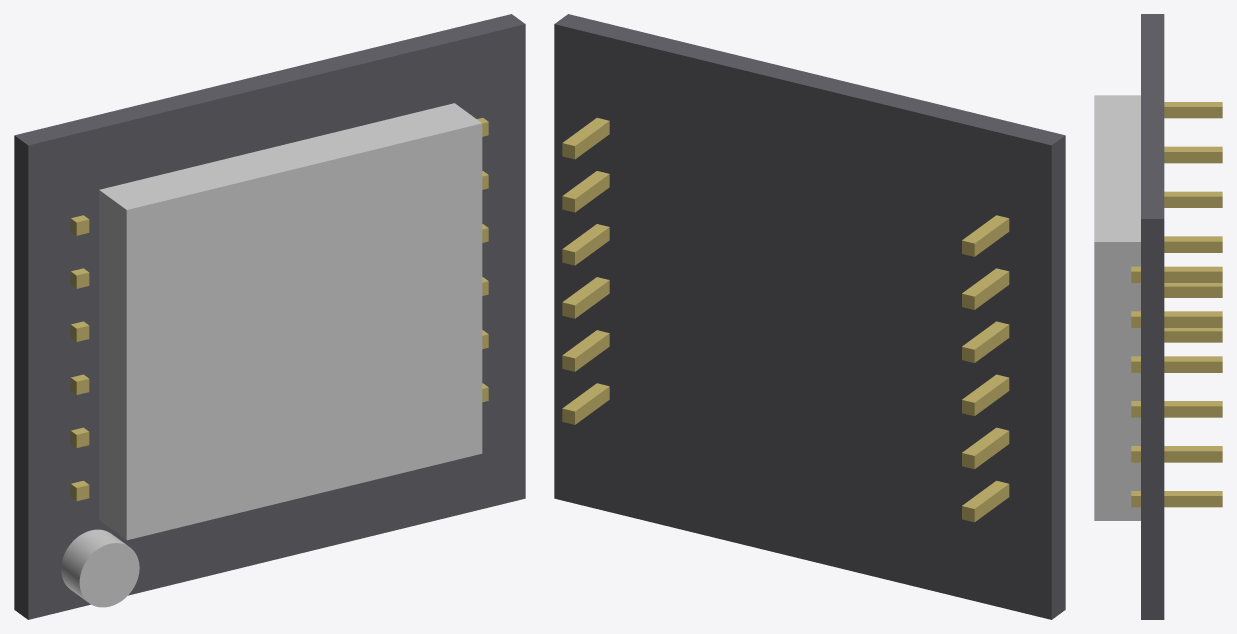
The model's file is sim800l.glb.
3 renders of one model, left to right at view 1: azimuth 30°, elevation 25°; view 2: azimuth 150°, elevation 25°; view 3: azimuth 270°, elevation 25°, orthographic. The views are drawn at different scales.
Parts seen in each view (by area): view 1: housing, extra, pins; view 2: extra, pins; view 3: housing, extra, pins.
Boxes of the visible parts, x1=… form: housing: x1=61, y1=103, x2=482, y2=607; extra: x1=14, y1=14, x2=525, y2=619; pins: x1=70, y1=118, x2=488, y2=501; extra: x1=554, y1=14, x2=1065, y2=619; pins: x1=562, y1=118, x2=1009, y2=522; housing: x1=1094, y1=95, x2=1140, y2=520; extra: x1=1141, y1=14, x2=1164, y2=619; pins: x1=1131, y1=102, x2=1222, y2=507.
Bounding box in the file's own units: 24.9 × 22.7 × 6.6.
